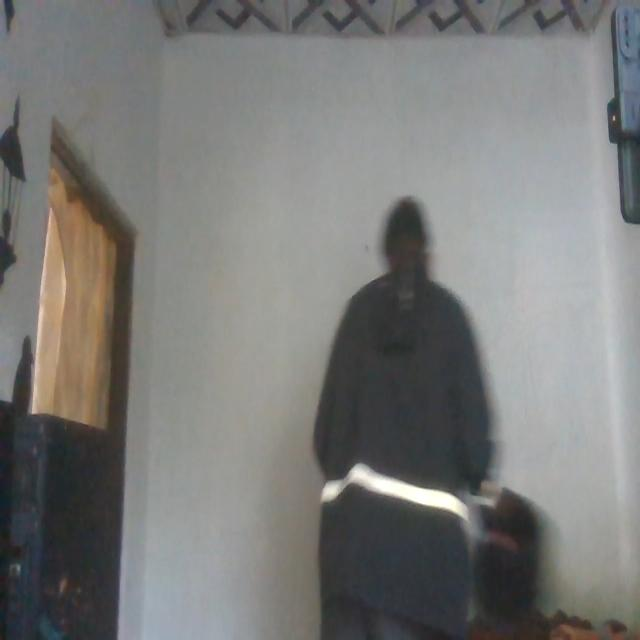Jacket_Wearer: (320, 270, 488, 632)
Person: (318, 180, 504, 640)
